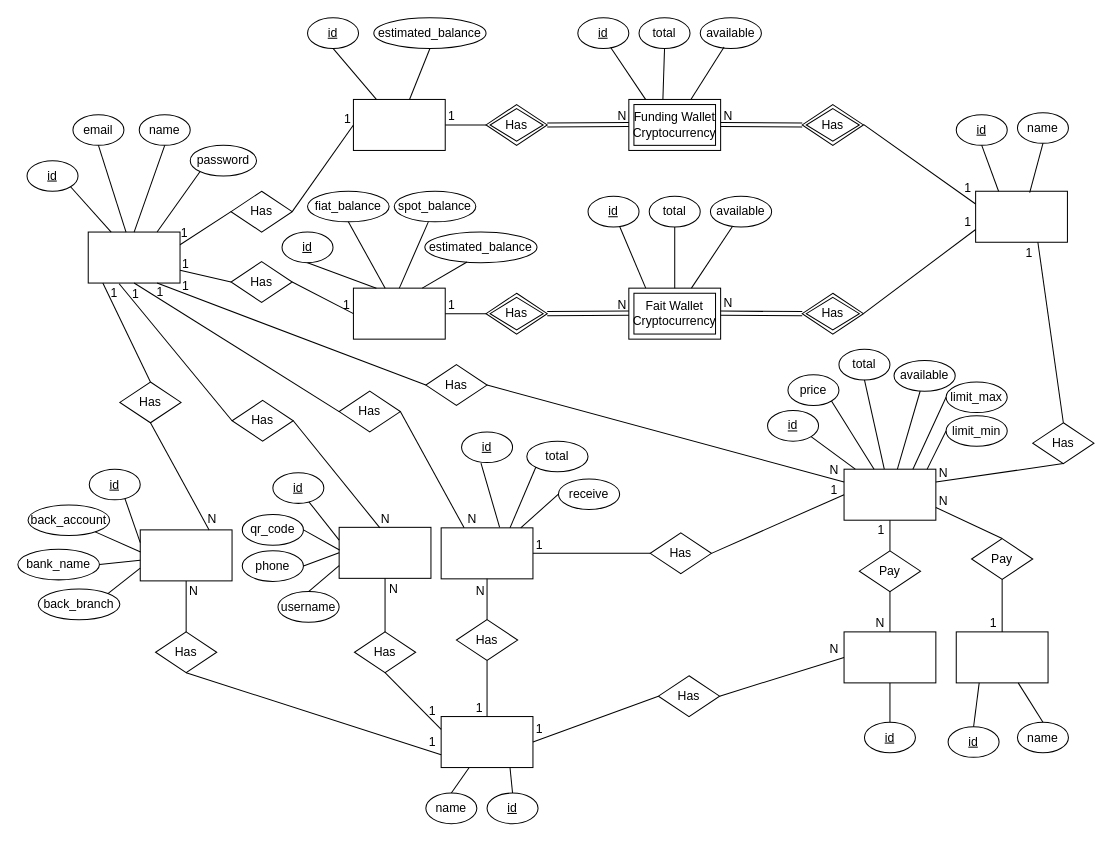
The diagram is 1112 pixels wide and 842 high, and some of its shapes have lost their labels. The box of each missing label's shape, as (x1, y1, x2, y2) in pixels:
Cryptocurrency: (975, 190, 1067, 242)
Currency: (955, 631, 1048, 683)
Fait Wallet: (352, 287, 445, 339)
Funding Wallet: (352, 98, 445, 150)
Order: (843, 468, 936, 520)
OrderPayment: (843, 631, 936, 683)
PaymentType: (440, 716, 533, 768)
Transaction: (440, 527, 533, 579)
User: (87, 231, 180, 283)
UserPayment BankTransfer: (139, 529, 232, 581)
UserPayment TrueMoney: (338, 526, 431, 578)
